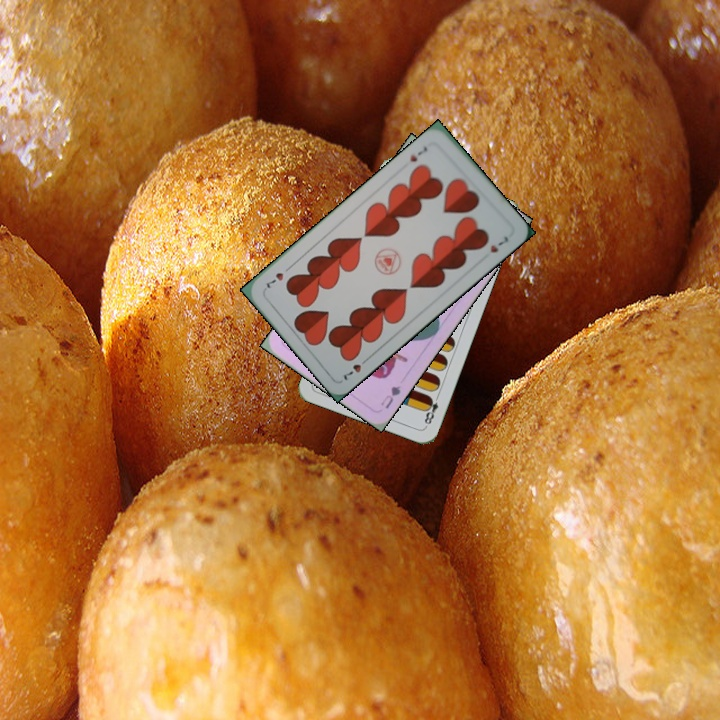E8: (420, 390, 442, 429)
GU: (377, 381, 403, 411)
H7: (340, 353, 372, 383), (406, 142, 430, 164)
